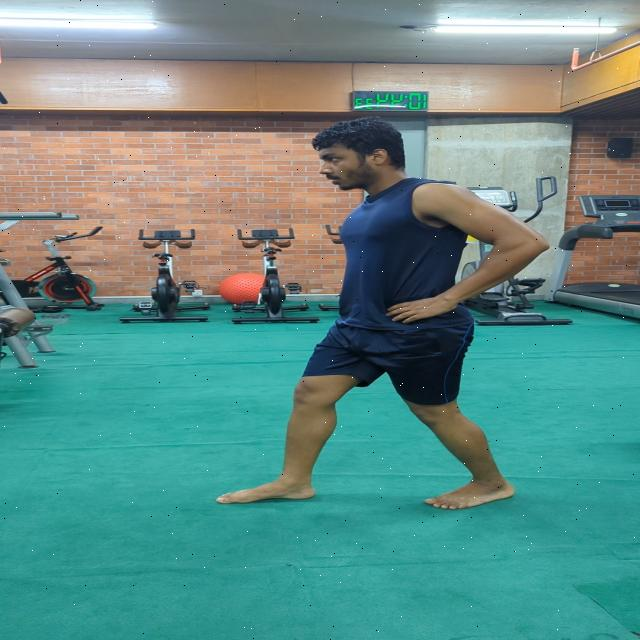Normal_Lunges: (194, 116, 564, 512)
